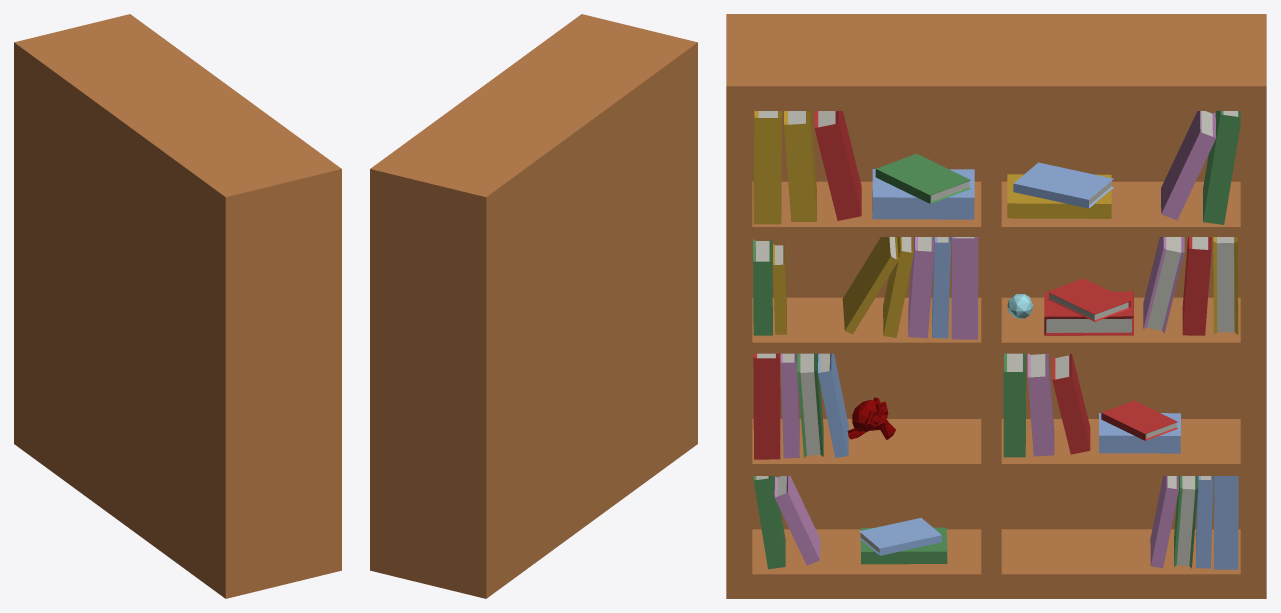
The model's file is Libreria(ConLibri).fbx.
The picture shows the model from 3 angles, left to right: view 1: azimuth 30°, elevation 25°; view 2: azimuth 150°, elevation 25°; view 3: azimuth 270°, elevation 25°; orthographic projection. The views are drawn at different scales.
Parts seen in each view (by area): view 1: Libreria; view 2: Libreria; view 3: Libreria, Libri.
Part boxes in pixels (x1,y1,x2,y2): Libreria: [14, 14, 341, 598]; Libreria: [370, 14, 697, 598]; Libreria: [726, 14, 1266, 598]; Libri: [753, 111, 1240, 569].
Size of the model in its own units: 122 by 404 by 386.
